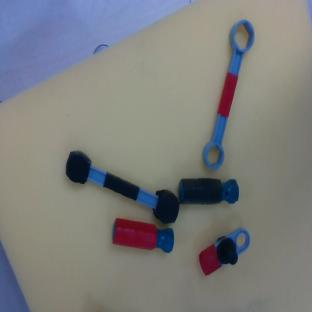part_1_good: (193, 226, 258, 276)
part_2_bad: (178, 178, 239, 203)
part_2_good: (110, 217, 177, 254)
part_3_bad: (60, 148, 186, 227)
part_3_good: (197, 17, 258, 170)
